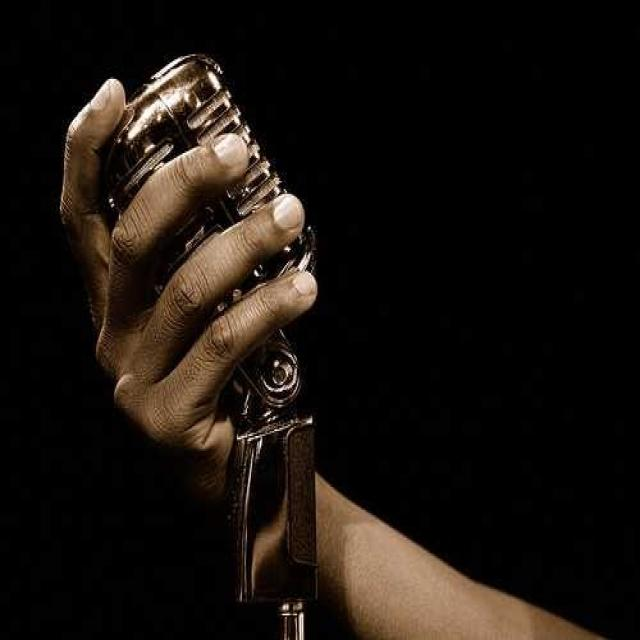microphone: (105, 56, 328, 626)
